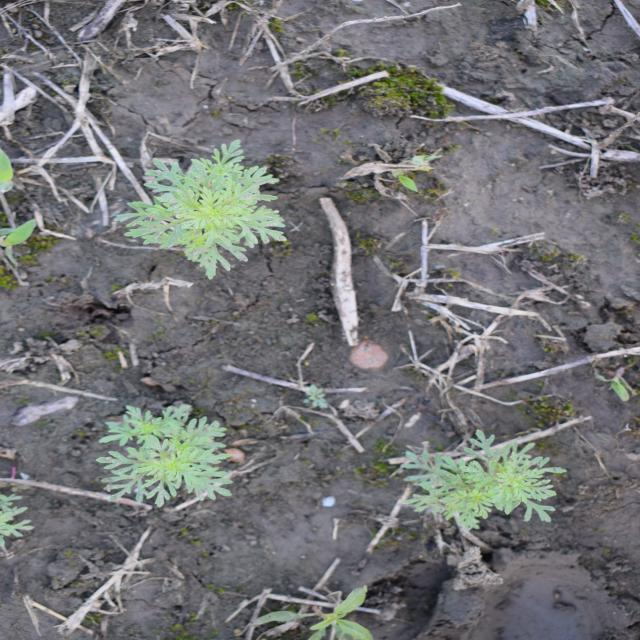Ragweed: (111, 138, 290, 282), (396, 428, 571, 534), (92, 401, 236, 509), (1, 493, 39, 539)
